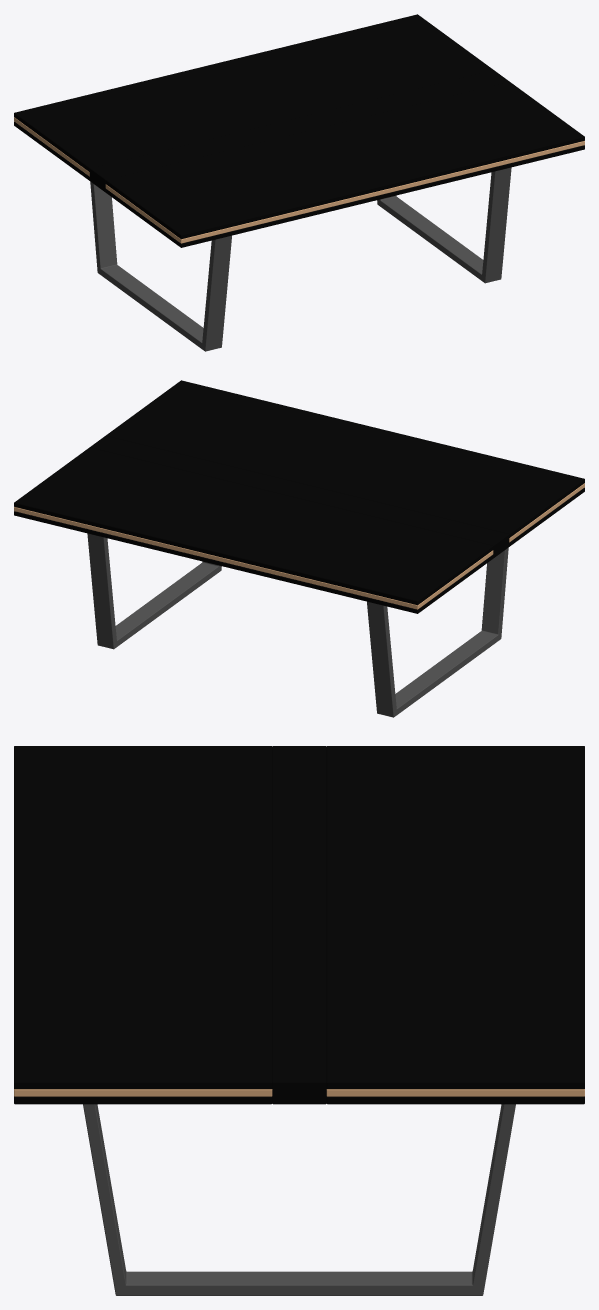
Rendered from Conference_table.fbx.
3 views of the same model, one above another, from view 1: azimuth 30°, elevation 25°; view 2: azimuth 150°, elevation 25°; view 3: azimuth 270°, elevation 25° (orthographic). The views are drawn at different scales.
Parts seen in each view (by area): view 1: Conference_table; view 2: Conference_table; view 3: Conference_table.
Boxes of the visible parts, bbox=[...] form: Conference_table: bbox=[14, 14, 584, 351]; Conference_table: bbox=[14, 380, 584, 717]; Conference_table: bbox=[14, 746, 584, 1295].
Bounding box in the file's own units: 195 × 70 × 140.
